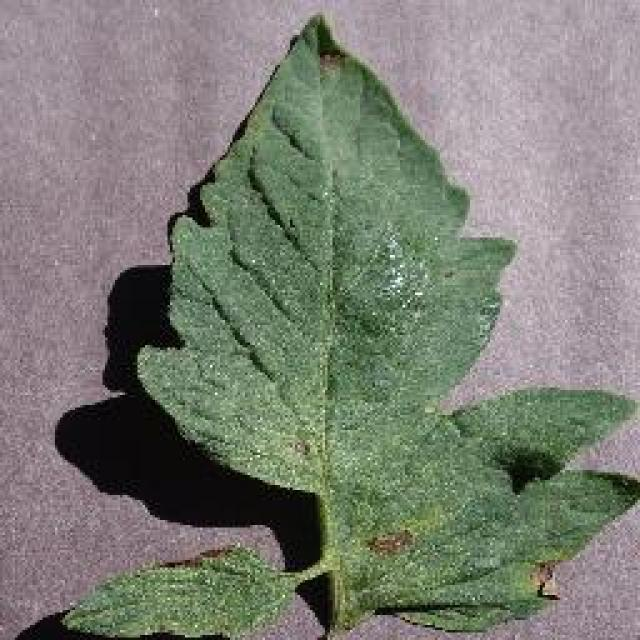Tomato Early blight leaf: (75, 19, 623, 631)
